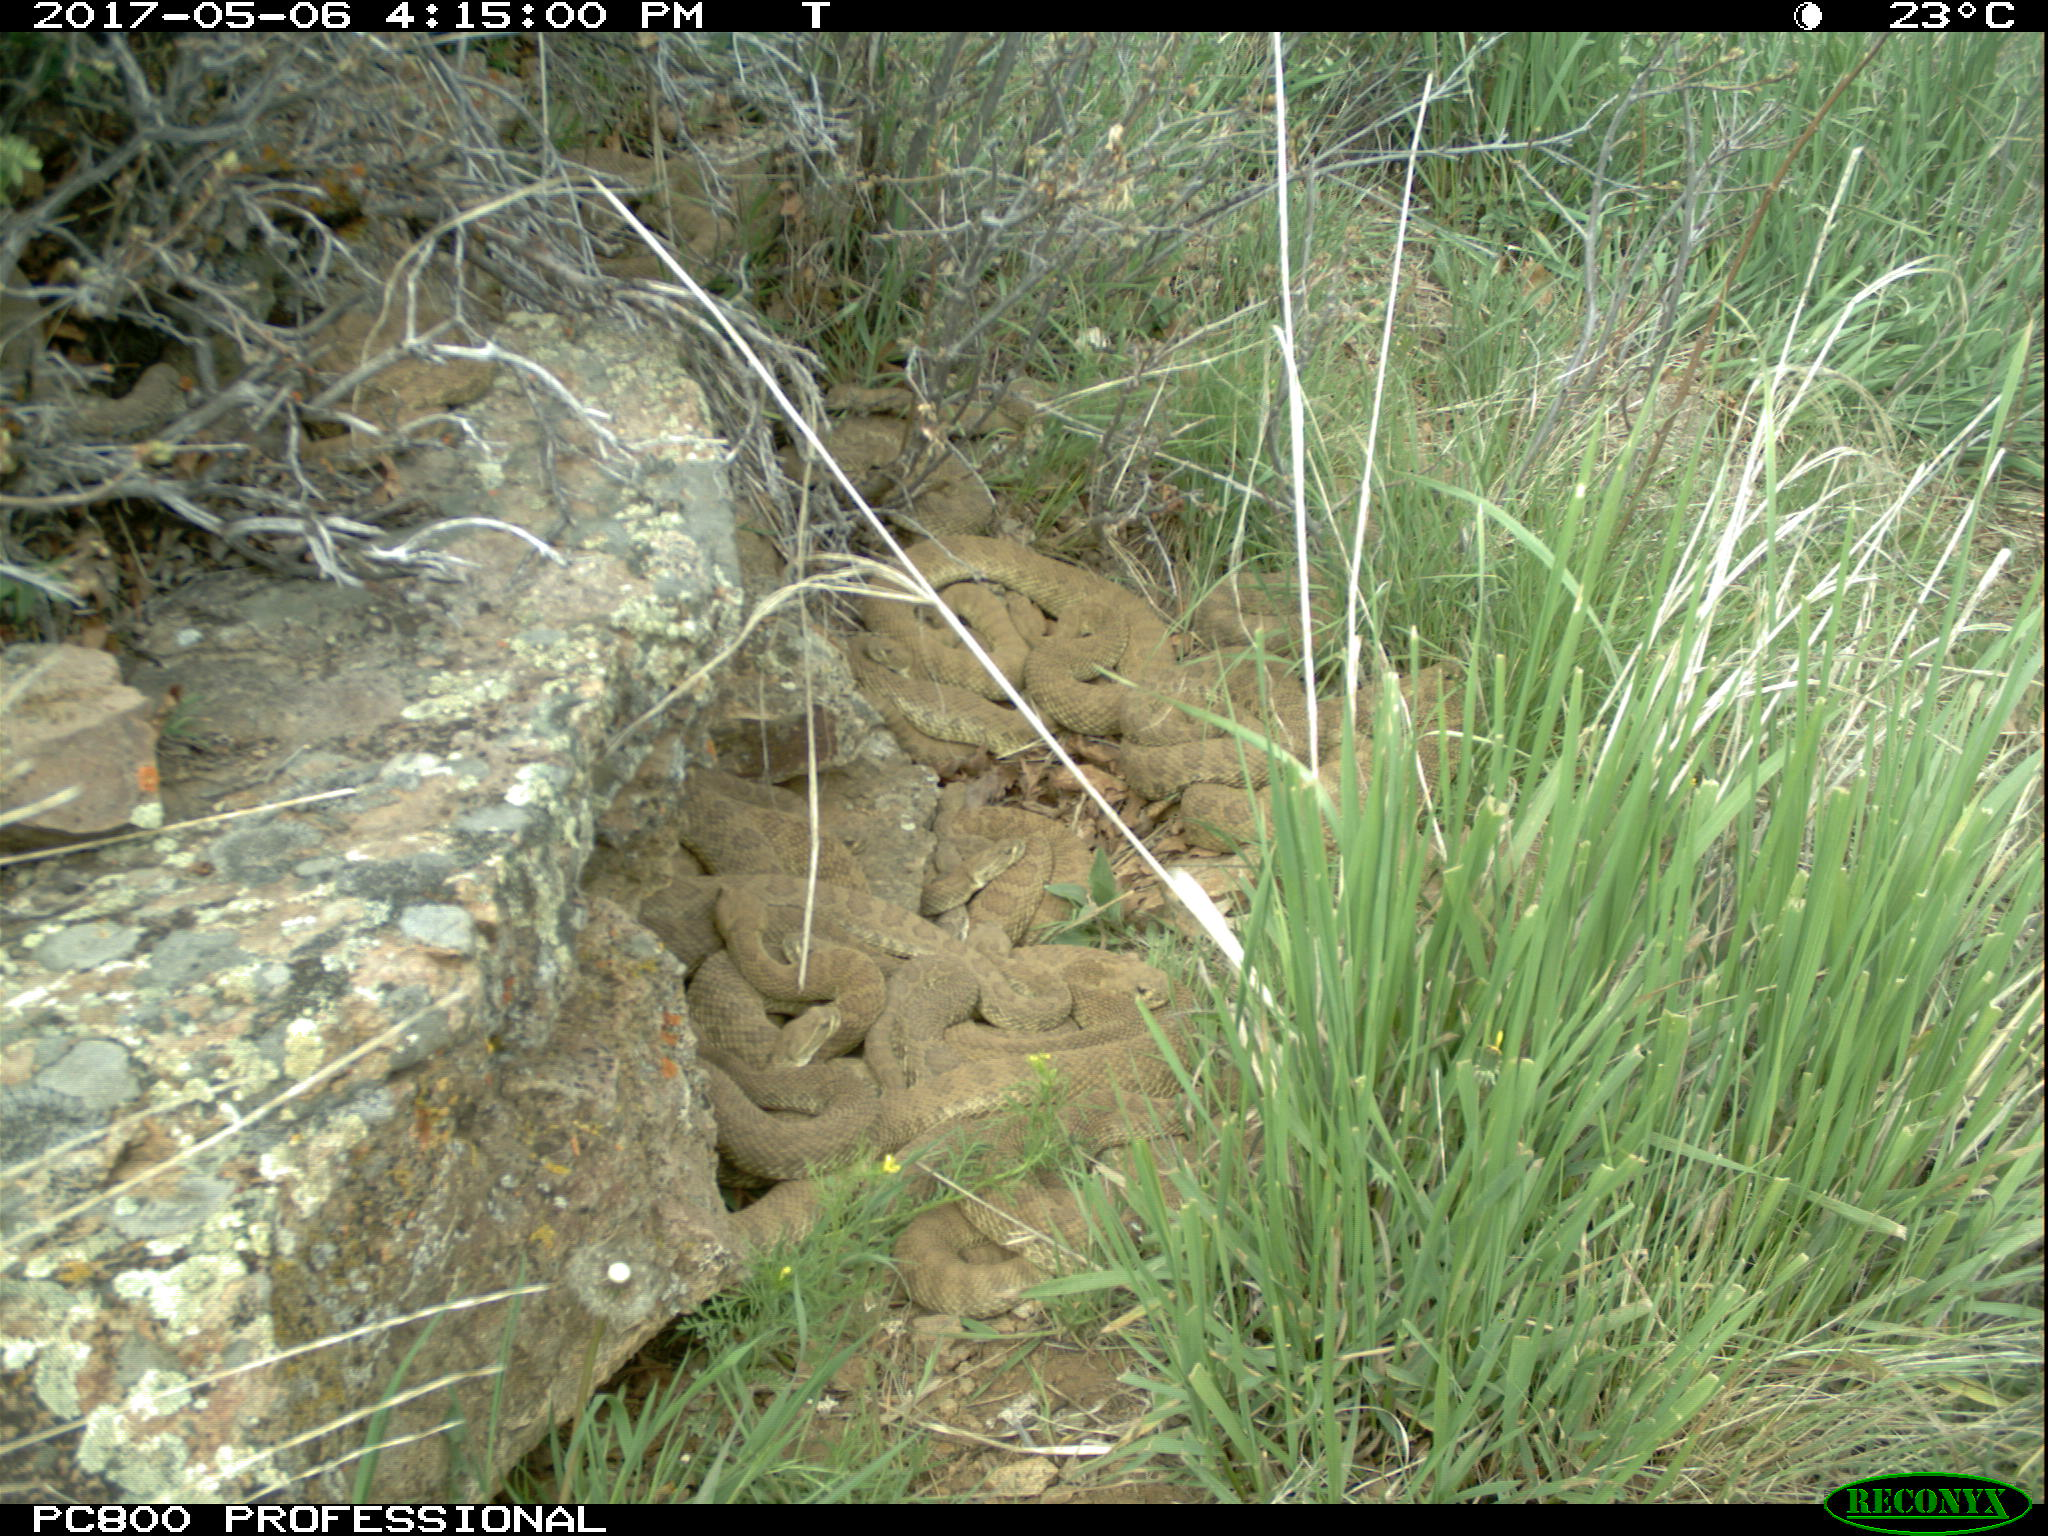snake: (697, 1058, 1171, 1313), (853, 534, 1243, 800), (1151, 662, 1556, 891), (664, 871, 1092, 1058), (306, 340, 502, 452), (1074, 918, 1214, 1070)
